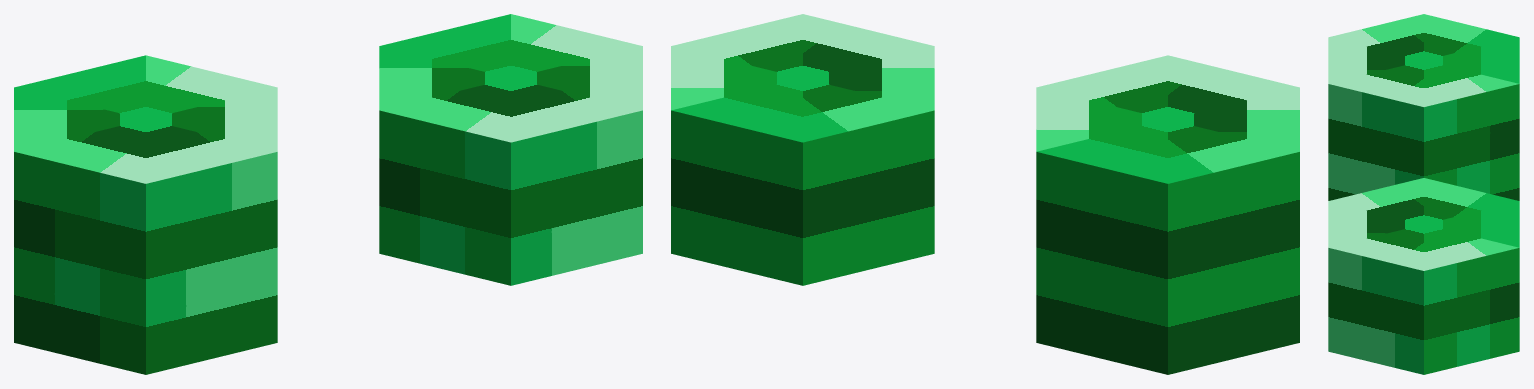
File: emerald_coins_1.obj
The picture shows the model from 3 angles, left to right: view 1: azimuth 30°, elevation 25°; view 2: azimuth 150°, elevation 25°; view 3: azimuth 270°, elevation 25°; orthographic projection. The views are drawn at different scales.
Visible parts, largest first — view 1: cylinder; view 2: cylinder; view 3: cylinder.
Part boxes in pixels (x1,y1,x2,y2): cylinder: (14, 14, 642, 374); cylinder: (671, 14, 1299, 374); cylinder: (1328, 14, 1519, 374).
Size of the model in its own units: 0.8608 by 0.25 by 0.3125.
